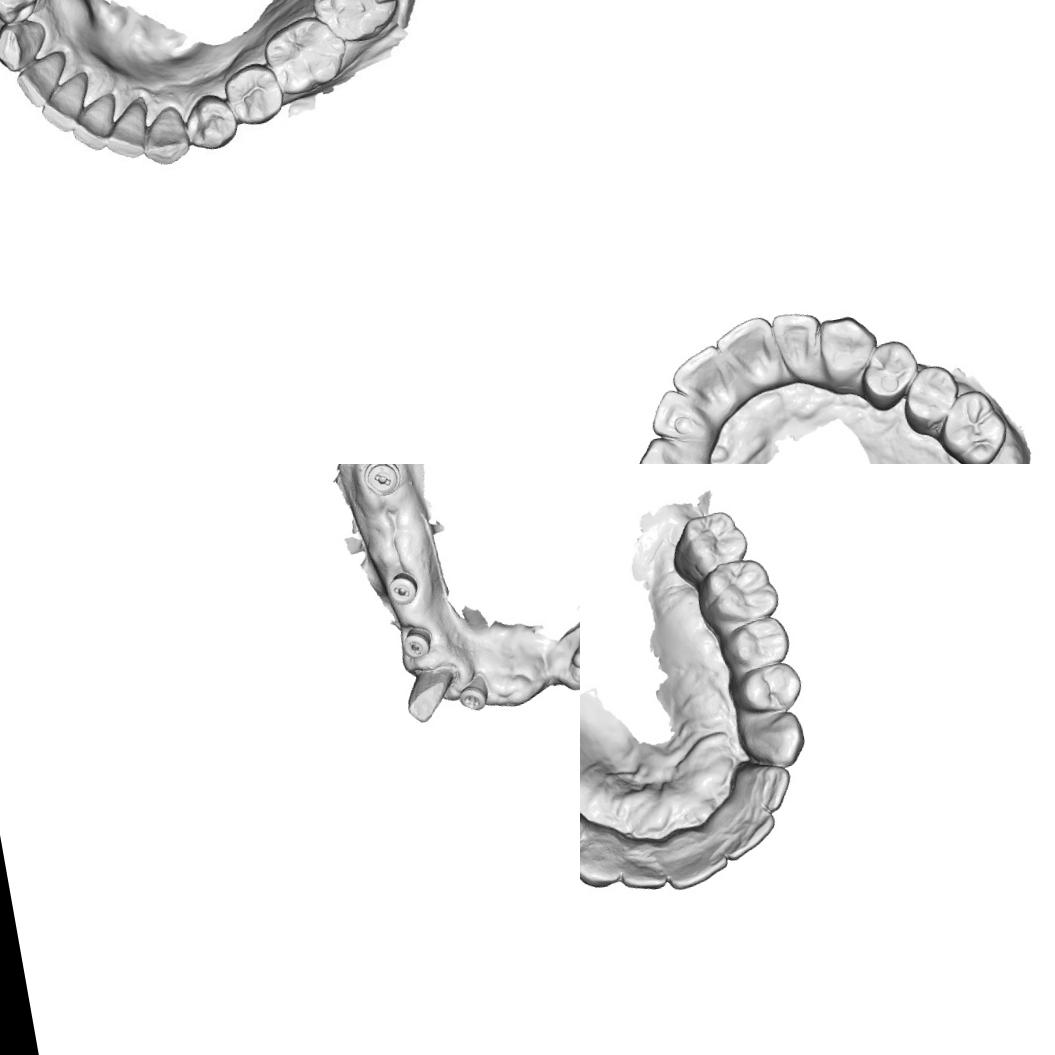canine: (814, 311, 884, 396), (733, 707, 812, 774), (137, 102, 194, 168), (0, 15, 55, 74), (580, 824, 625, 895), (632, 427, 716, 464)
crown: (399, 666, 459, 727)
implant_minus: (359, 464, 406, 500), (383, 569, 421, 608), (398, 624, 434, 662)
implant_plus: (454, 674, 493, 714)
incisor: (712, 313, 782, 398), (770, 306, 830, 388), (658, 834, 738, 894), (666, 342, 732, 412), (64, 88, 129, 154), (36, 70, 100, 135), (645, 384, 708, 448), (9, 48, 71, 112), (715, 804, 782, 863), (98, 98, 151, 166), (614, 846, 674, 902), (745, 759, 794, 818)
molar: (257, 9, 350, 100), (931, 384, 1012, 464), (700, 557, 786, 628), (301, 0, 405, 51), (670, 509, 748, 573)
premolar: (895, 360, 966, 438), (854, 336, 924, 413), (726, 656, 808, 720), (218, 57, 288, 128), (716, 613, 793, 674), (180, 89, 242, 153), (0, 0, 45, 28)
